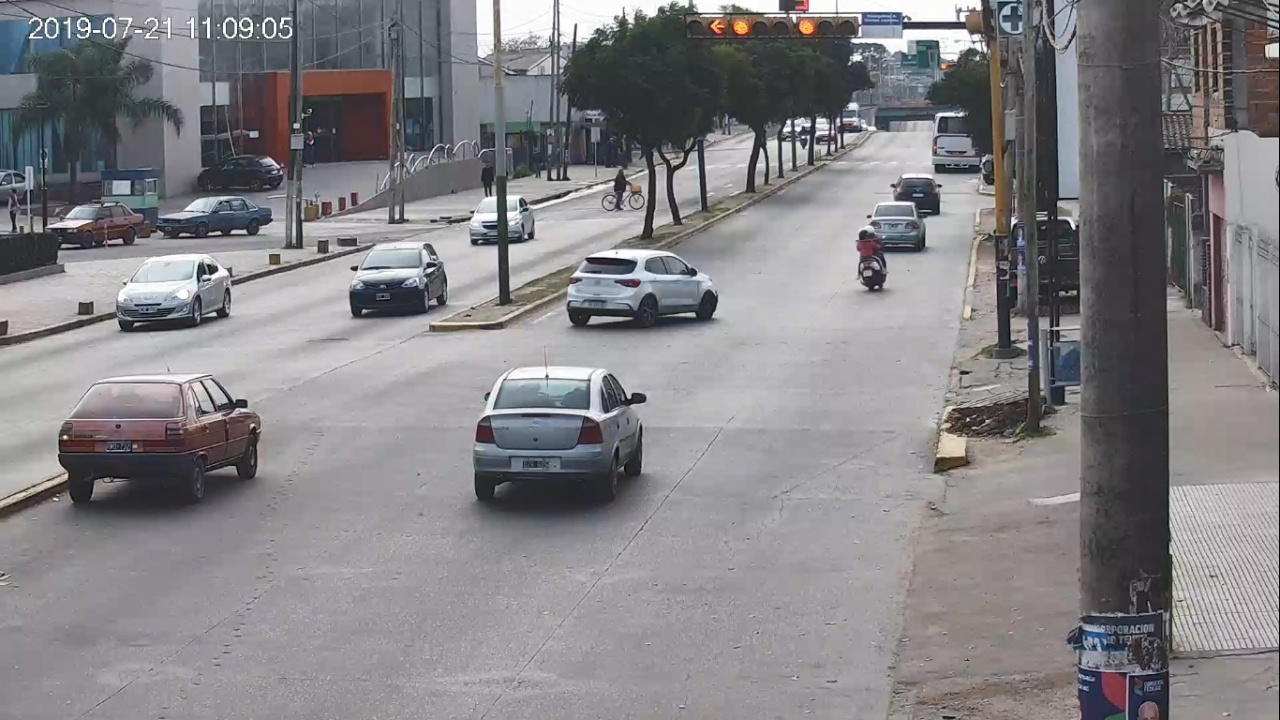car: (57, 374, 260, 499), (473, 366, 648, 501)
front car: (115, 255, 232, 330), (350, 242, 448, 316)
motorcycle: (855, 235, 888, 292)
traffic light: (731, 13, 858, 41)
